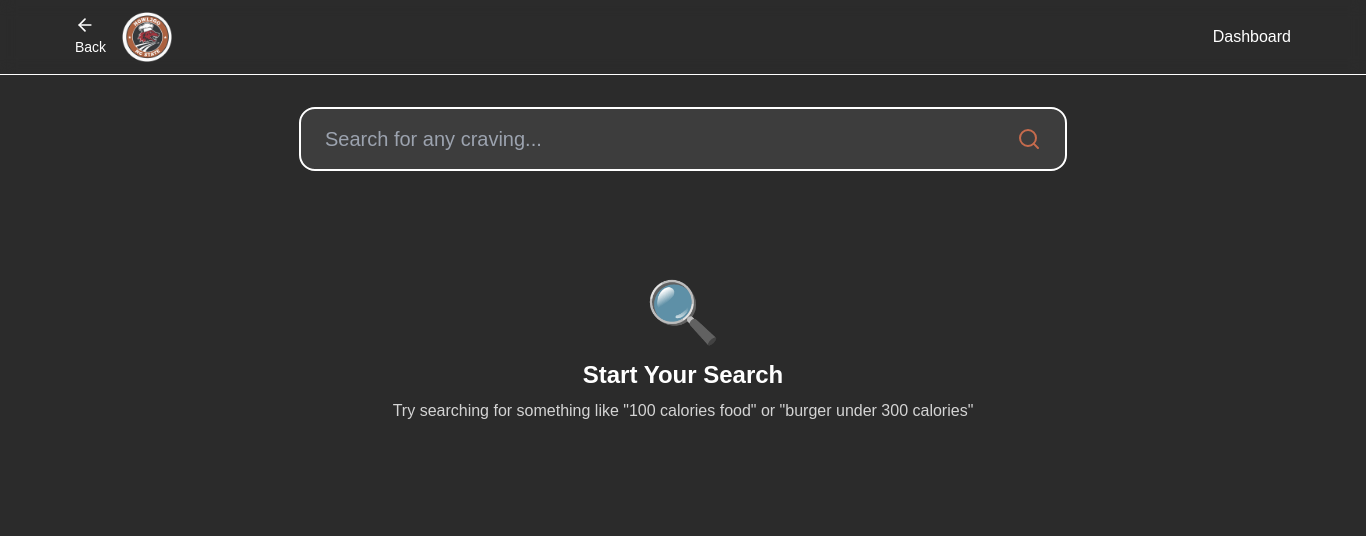
Scenario: Search Page › API Integration › handles network errors
The width and height of the screenshot is (1366, 536).
In the field named "Search for food": (667, 139) [325, 125, 1009, 153], type "test"
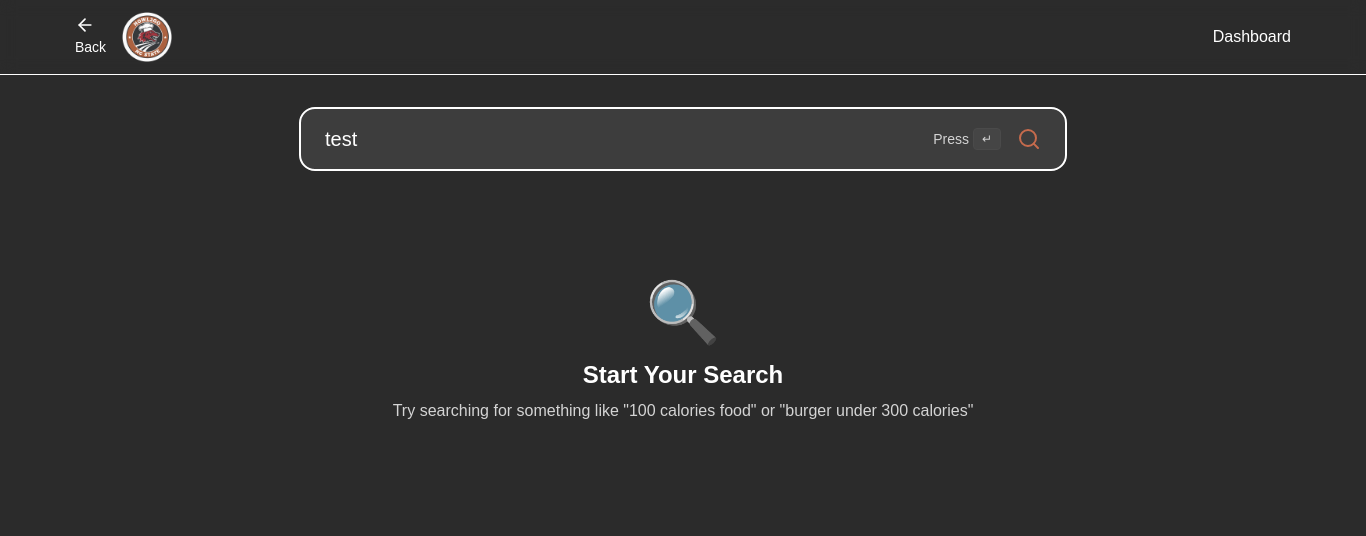
Submit the form named "Search for food", box [299, 107, 1067, 171]
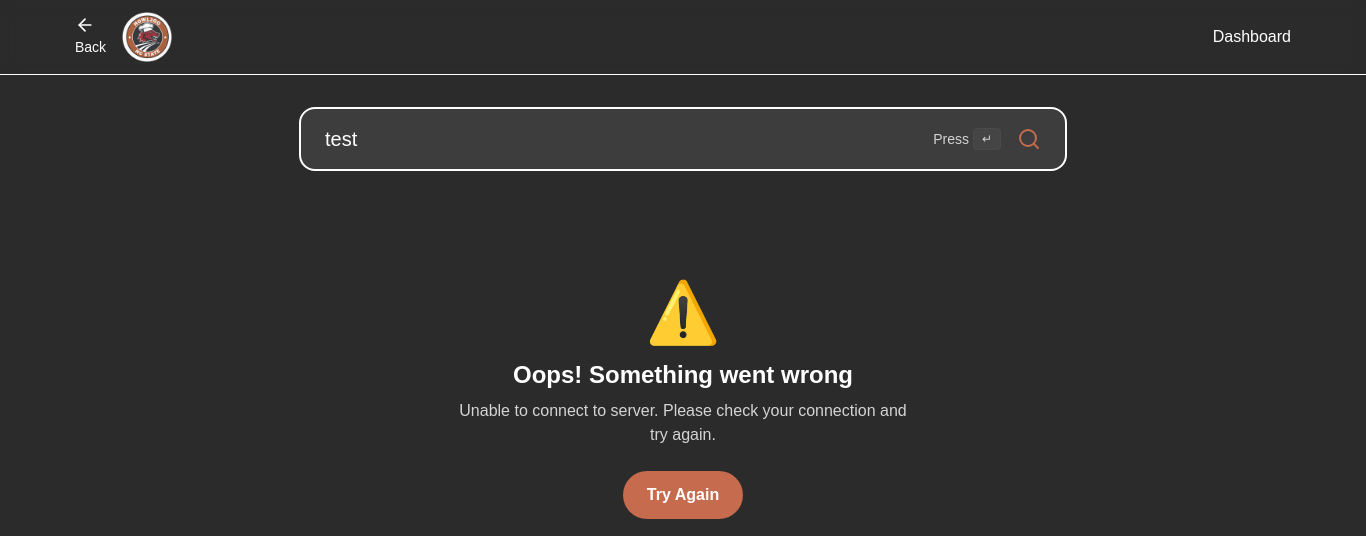
Expected: the text "Unable to connect to server" is shown, [459, 402, 907, 443]
